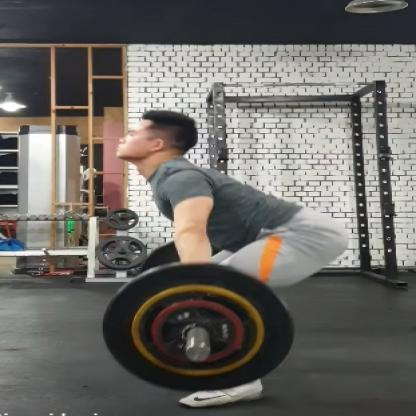Barbell: (94, 260, 304, 394)
